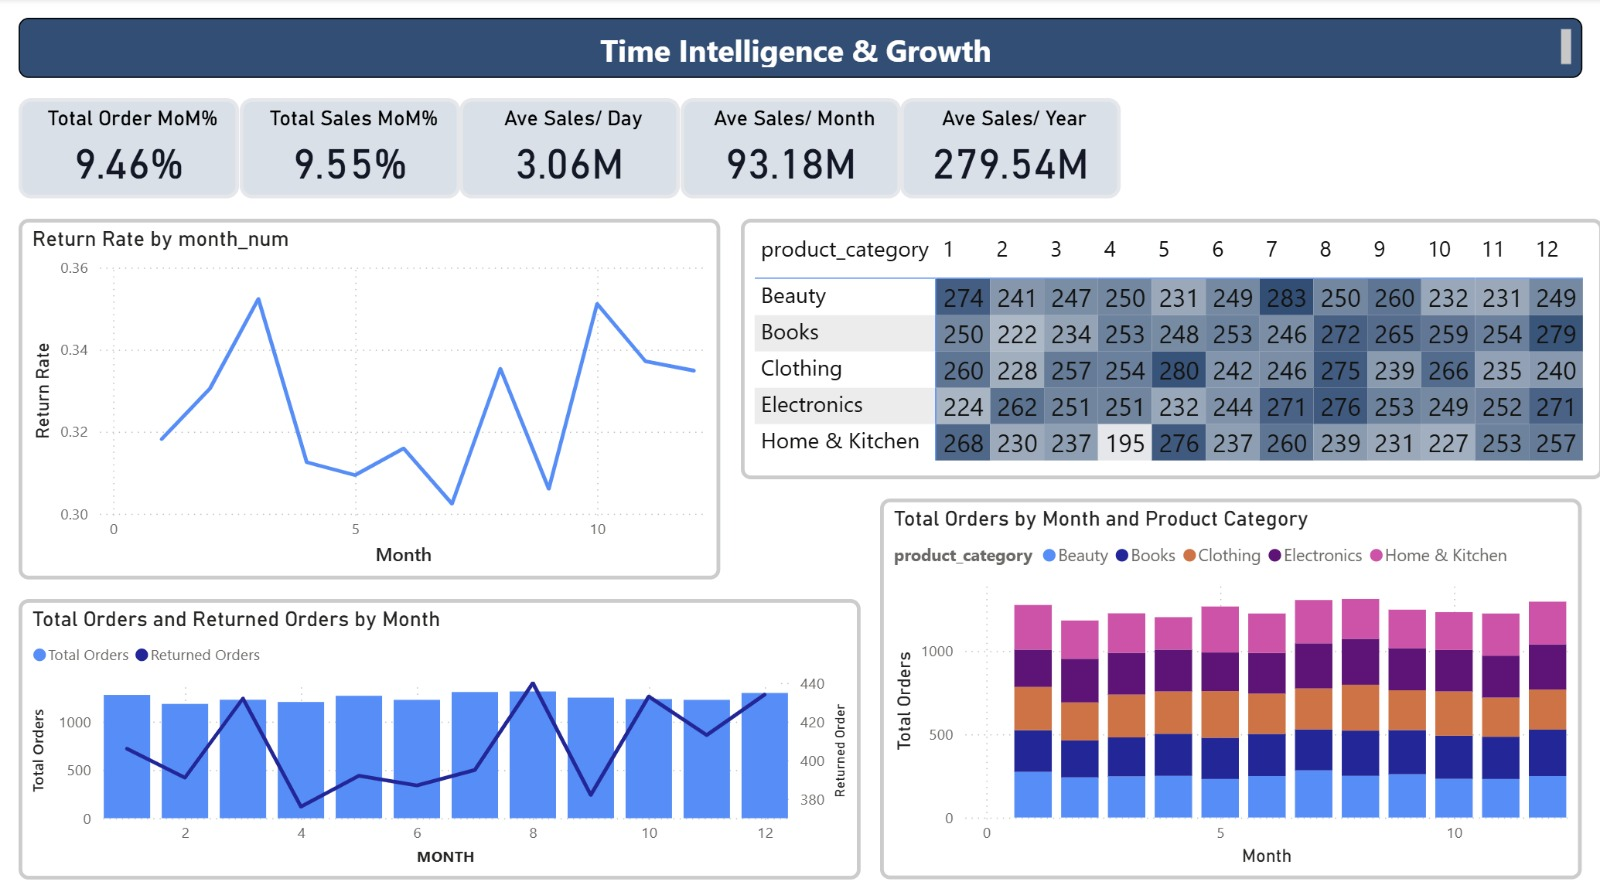

This screenshot's page, from the dashboard's own definition file:
{"tool":"powerbi","page":{"name":"Time Intelligence & Growth","canvas":[1280,720],"ordinal":3},"visuals":[{"type":"textbox","box":[16,16,1248,48],"z":0},{"type":"card","title":"Total Order MoM%","fields":{"Values":["dim_date.Orders MoM %"]},"box":[16,80,176,80],"z":1000},{"type":"card","title":"Total Sales MoM%","fields":{"Values":["dim_date.Sales MoM %"]},"box":[192,80,176,80],"z":2000},{"type":"card","title":"Ave Sales/ Day","fields":{"Values":["Sum(dm_fact_sales.total_sales_inr)","select"]},"box":[368,80,176,80],"z":3000},{"type":"card","title":"Ave Sales/ Month","fields":{"Values":["Sum(dm_fact_sales.total_sales_inr)","select","select1"]},"box":[544,80,176,80],"z":4000},{"type":"card","title":"Ave Sales/ Year","fields":{"Values":["Sum(dm_fact_sales.total_sales_inr)","select","select1"]},"box":[720,80,176,80],"z":5000},{"type":"lineChart","fields":{"Category":["dim_date.month_num"],"Y":["dim_customer.Return Rate"]},"box":[16,176,560,288],"z":6000},{"type":"pivotTable","fields":{"Rows":["dim_product.product_category"],"Columns":["dim_date.month_num"],"Values":["dim_customer.Total Orders"]},"box":[592,176,688,208],"z":7000},{"type":"lineClusteredColumnComboChart","title":"Total Orders and Returned Orders by Month","fields":{"Category":["dim_date.month_num"],"Y":["dim_customer.Total Orders"],"Y2":["dim_customer.Returned Orders"]},"box":[16,480,672,224],"z":8000},{"type":"columnChart","title":"Total Orders by Month and Product Category","fields":{"Category":["dim_date.month_num"],"Y":["dim_customer.Total Orders"],"Series":["dim_product.product_category"]},"box":[704,400,560,304],"z":9000}]}

Visuals, with their boxes in screenshot pixels (x1, y1, x2, y2), scaled from the page's 1280x720 canvas onto the 1600x885 screenshot:
textbox: crop(20, 20, 1580, 79)
"Total Order MoM%" card: crop(20, 98, 240, 197)
"Total Sales MoM%" card: crop(240, 98, 460, 197)
"Ave Sales/ Day" card: crop(460, 98, 680, 197)
"Ave Sales/ Month" card: crop(680, 98, 900, 197)
"Ave Sales/ Year" card: crop(900, 98, 1120, 197)
lineChart - dim_date.month_num x dim_customer.Return Rate: crop(20, 216, 720, 570)
pivotTable - dim_product.product_category x dim_date.month_num: crop(740, 216, 1599, 472)
"Total Orders and Returned Orders by Month" lineClusteredColumnComboChart: crop(20, 590, 860, 865)
"Total Orders by Month and Product Category" columnChart: crop(880, 492, 1580, 865)
